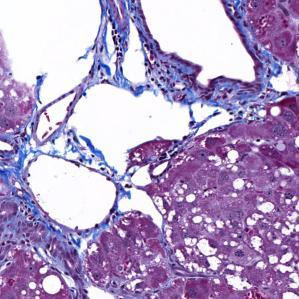fibrosis: (152, 54, 257, 108), (30, 218, 106, 274), (0, 141, 36, 229)
